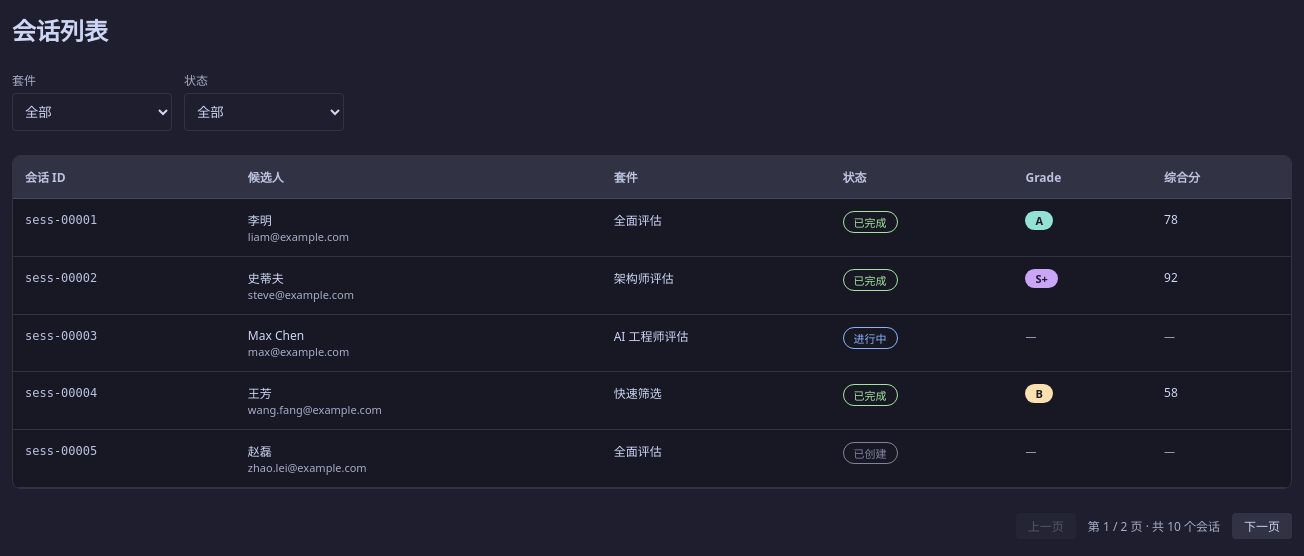
Test: <AdminSessionsListPage /> › filters by suite
This screenshot has width=1304, height=556.
Select "架构师评估" in the dropdown with test id "admin-sessions-filter-suite" at point(92, 112), box [12,93,172,131]
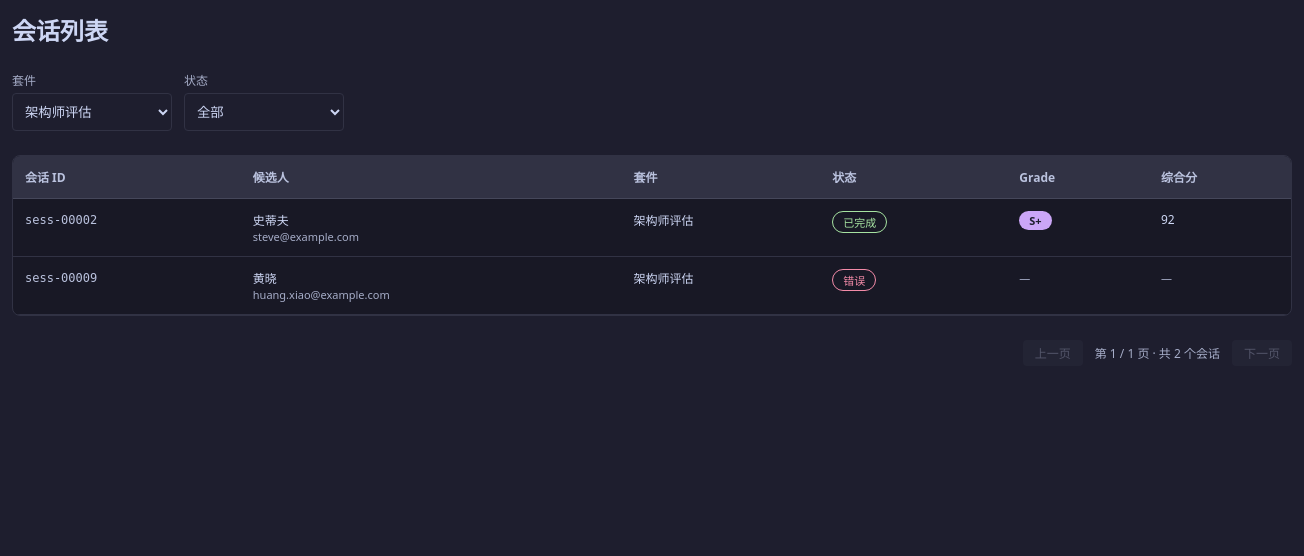
Check: the row with test id "admin-sessions-row-sess-00002" is shown, box [13,198,1291,256]
Check: the row with test id "admin-sessions-row-sess-00001" is gone
